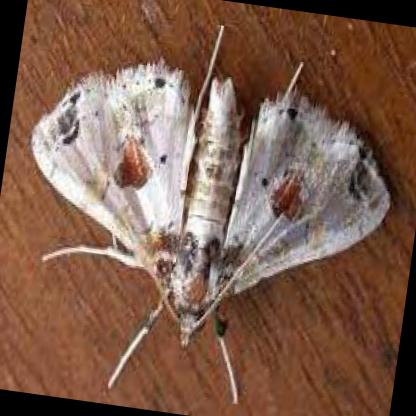leucinodes: (32, 63, 391, 353)
